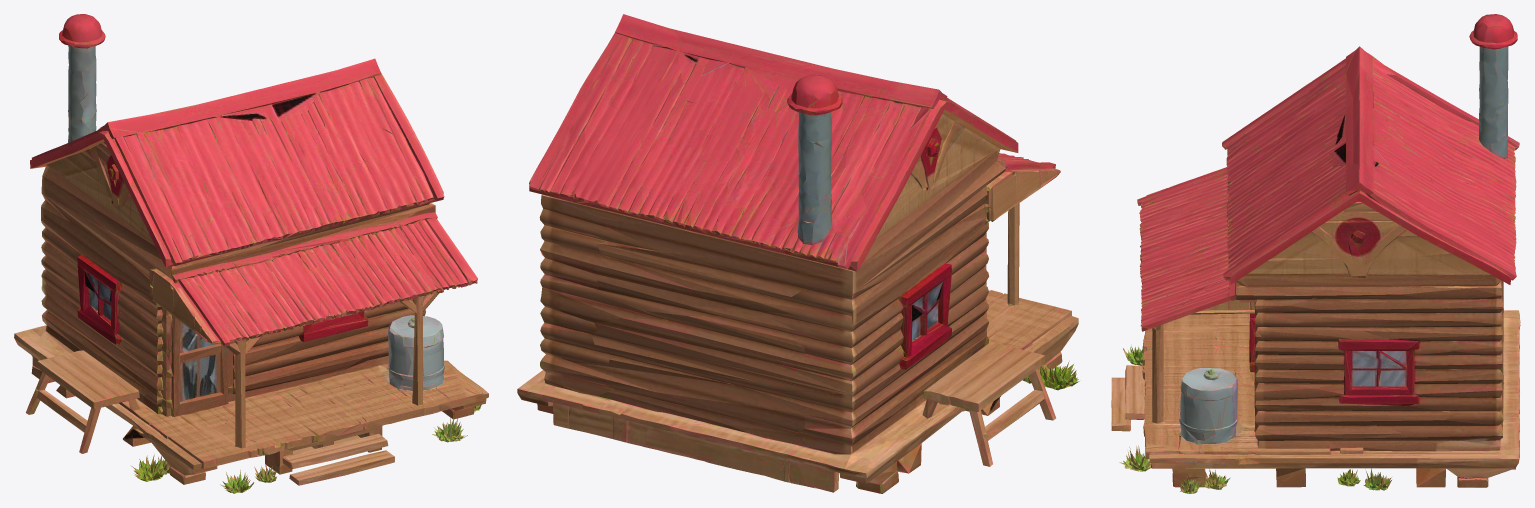
Rendered from farmhouse_au.glb.
The picture shows the model from 3 angles, left to right: view 1: azimuth 30°, elevation 25°; view 2: azimuth 150°, elevation 25°; view 3: azimuth 270°, elevation 25°; orthographic projection. The views are drawn at different scales.
Size of the model in its own units: 1.89 by 1.75 by 1.85.
1 material, 1 textured.
